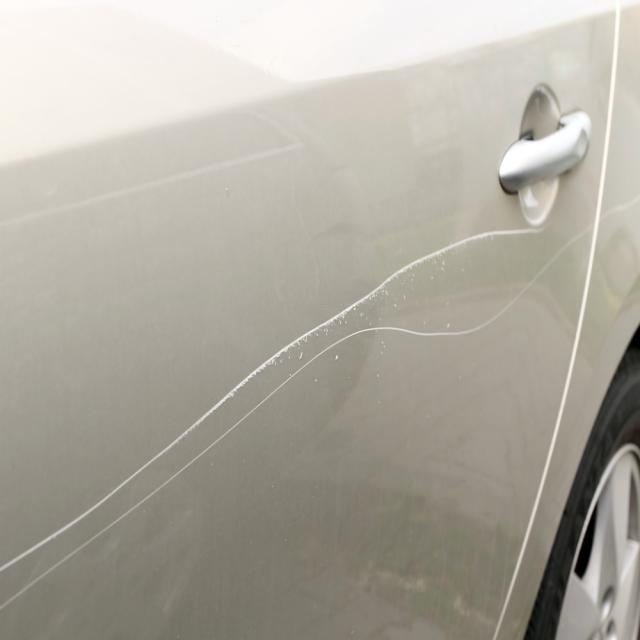scratch: (0, 227, 547, 611)
